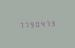four: (41, 19, 46, 27)
nine: (29, 20, 34, 28)
seven: (23, 20, 28, 28), (47, 19, 52, 27), (17, 21, 22, 28)
three: (53, 19, 58, 26)
zero: (35, 20, 40, 27)
